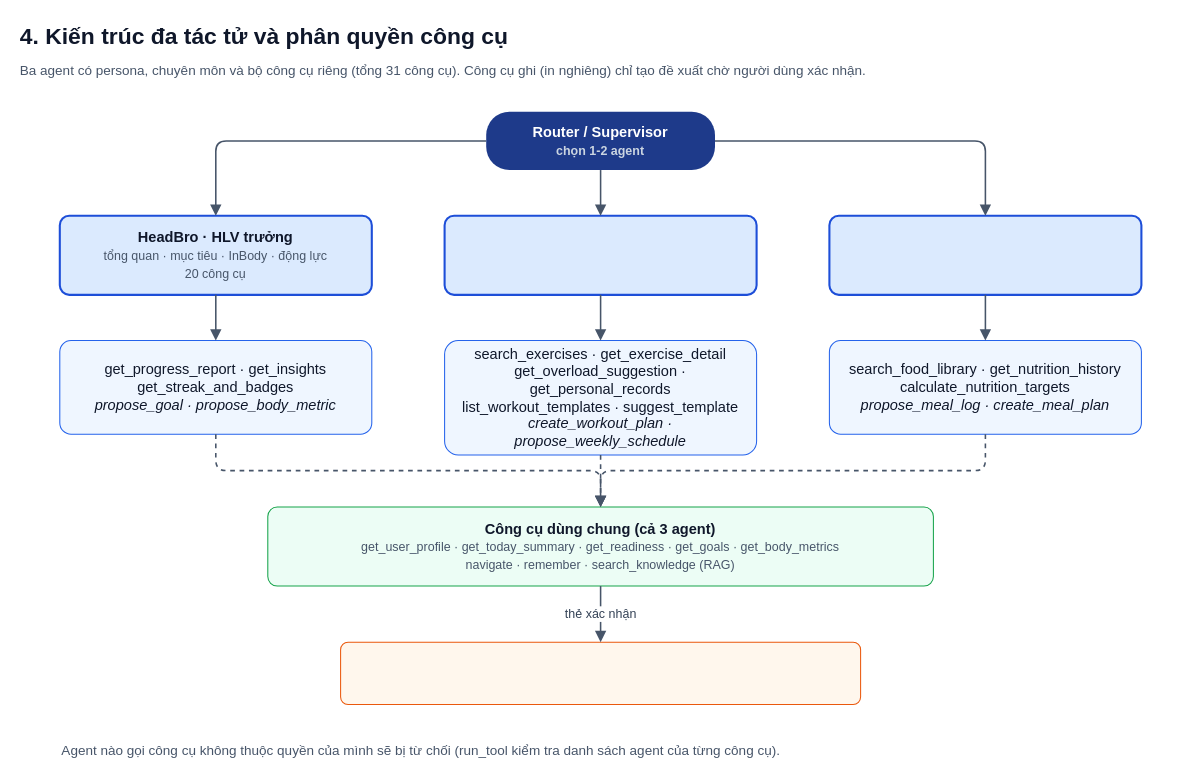
This 1179x784 diagram has some shape labels left out. Here are the shapes that lost their labels. From the top down, the box of each, then its label:
(443, 214, 757, 295): CoachBro · HLV sức mạnh bài tập · giáo án · lịch tuần · kỹ thuật 22 công cụ
(828, 214, 1142, 295): NutriBro · Dinh dưỡng bữa ăn · macro · món Việt · thực đơn 14 công cụ
(340, 641, 861, 705): Người dùng bấm Xác nhận đề xuất propose_* chỉ được ghi vào DB sau bước này
